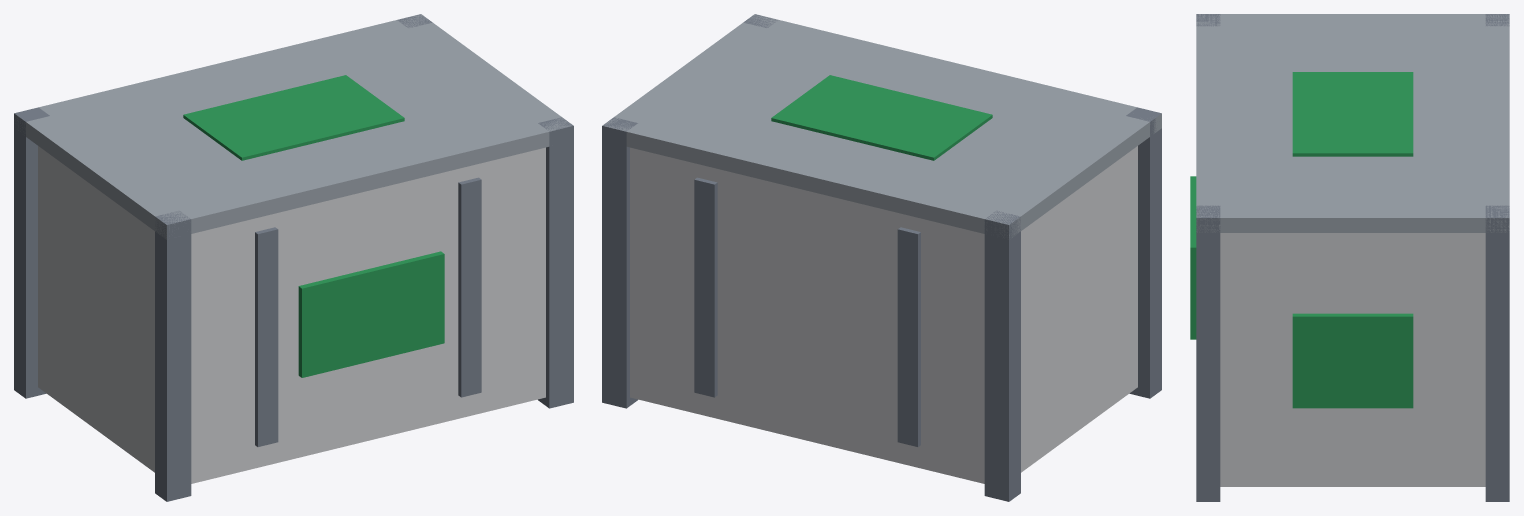
Rendered from container_ok.glb.
The picture shows the model from 3 angles, left to right: view 1: azimuth 30°, elevation 25°; view 2: azimuth 150°, elevation 25°; view 3: azimuth 270°, elevation 25°; orthographic projection. The views are drawn at different scales.
Parts seen in each view (by area): view 1: container_ok; view 2: container_ok; view 3: container_ok.
Boxes of the visible parts, x1=… form: container_ok: x1=14, y1=14, x2=573, y2=501; container_ok: x1=602, y1=14, x2=1161, y2=501; container_ok: x1=1190, y1=14, x2=1509, y2=501.
Size of the model in its own units: 2.02 by 1.31 by 1.33.
